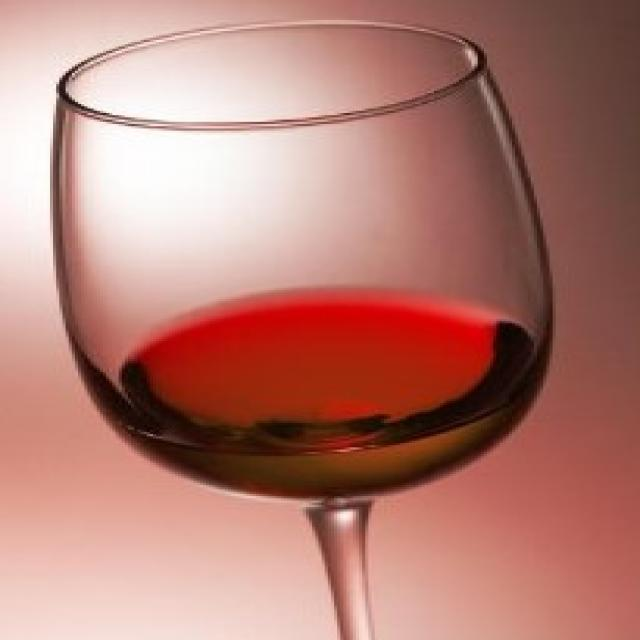electronic: (49, 17, 559, 640)
